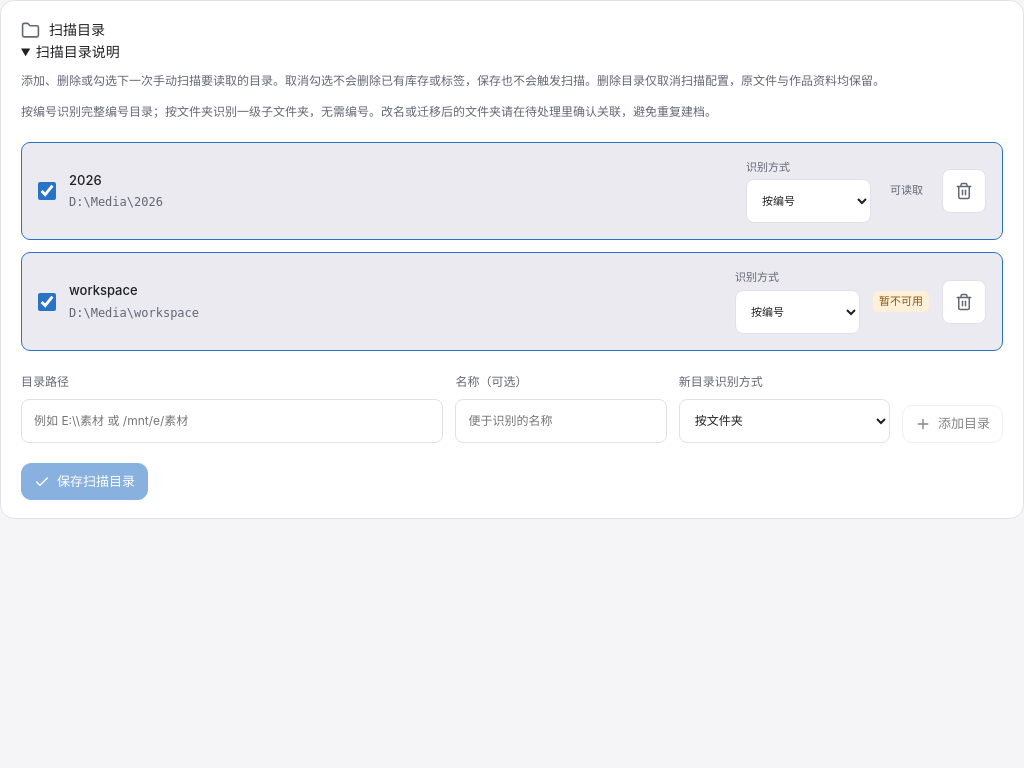
it: persisted scan directory selection › allows disabling every directory and persists the choice
This screenshot has width=1024, height=768.
Step 1. Click the checkbox named "扫描 workspace" → (47, 302), box [38,293,56,311]
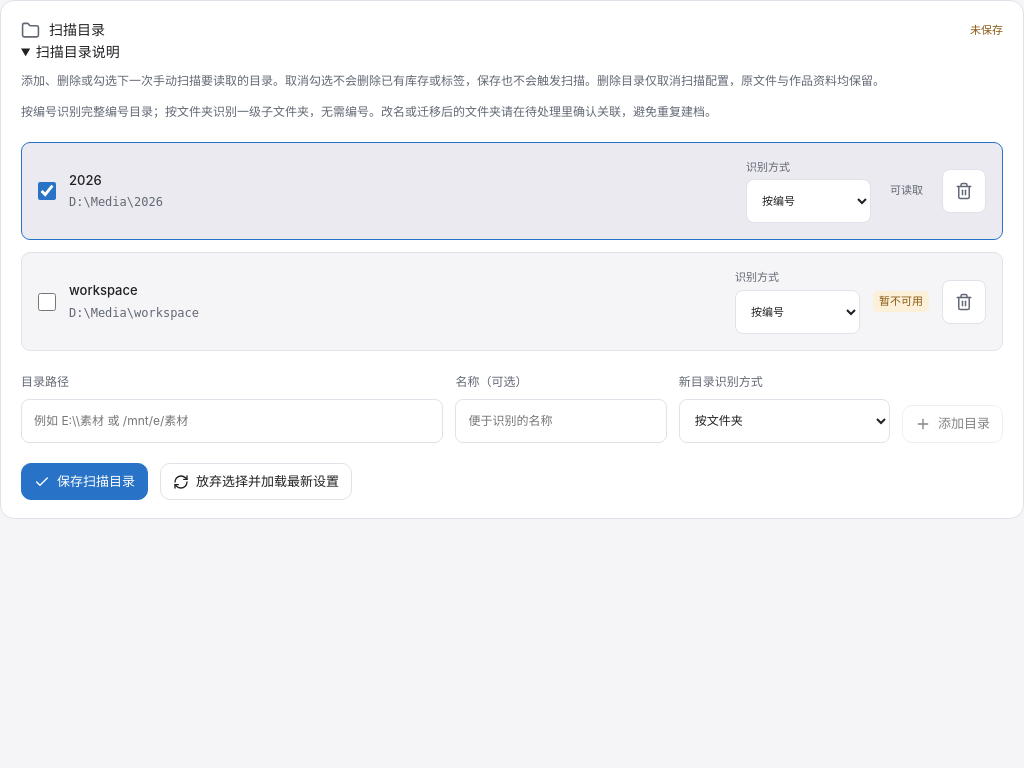
Step 2. Click the checkbox named "扫描 2026" → (47, 191), box [38,182,56,200]
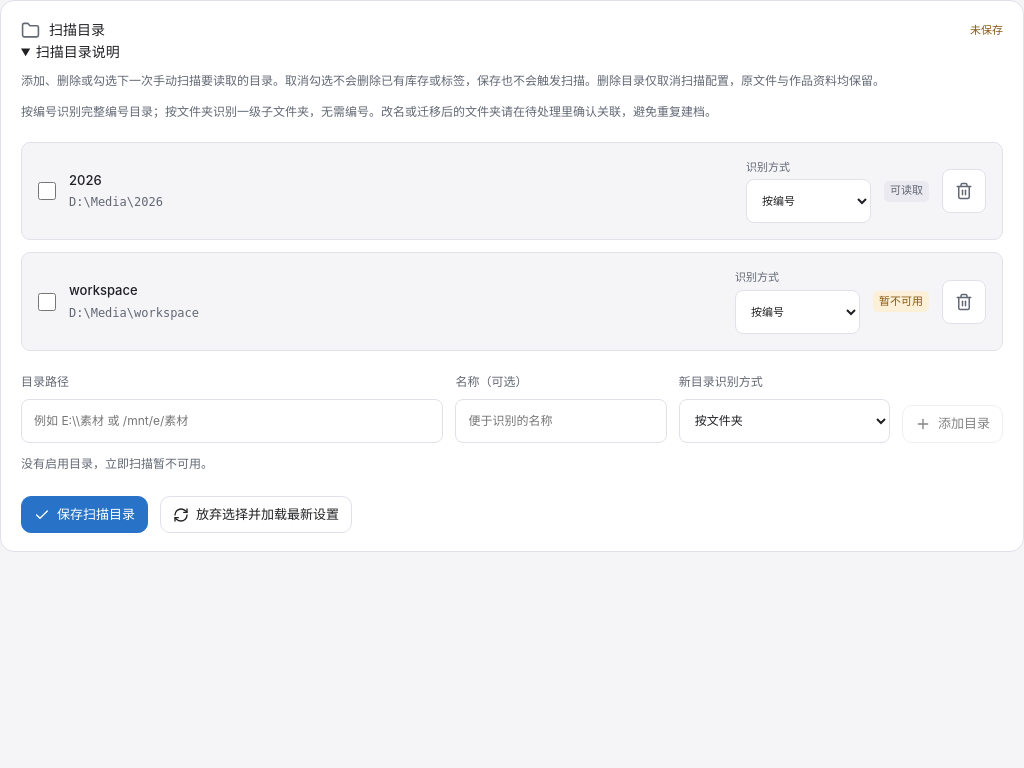
Now the button "保存扫描目录" is enabled
Now the text "没有启用目录，立即扫描暂不可用。" is shown, box [21,456,213,471]
Step 3. Click the button "保存扫描目录" → (84, 515), box [21,496,148,533]
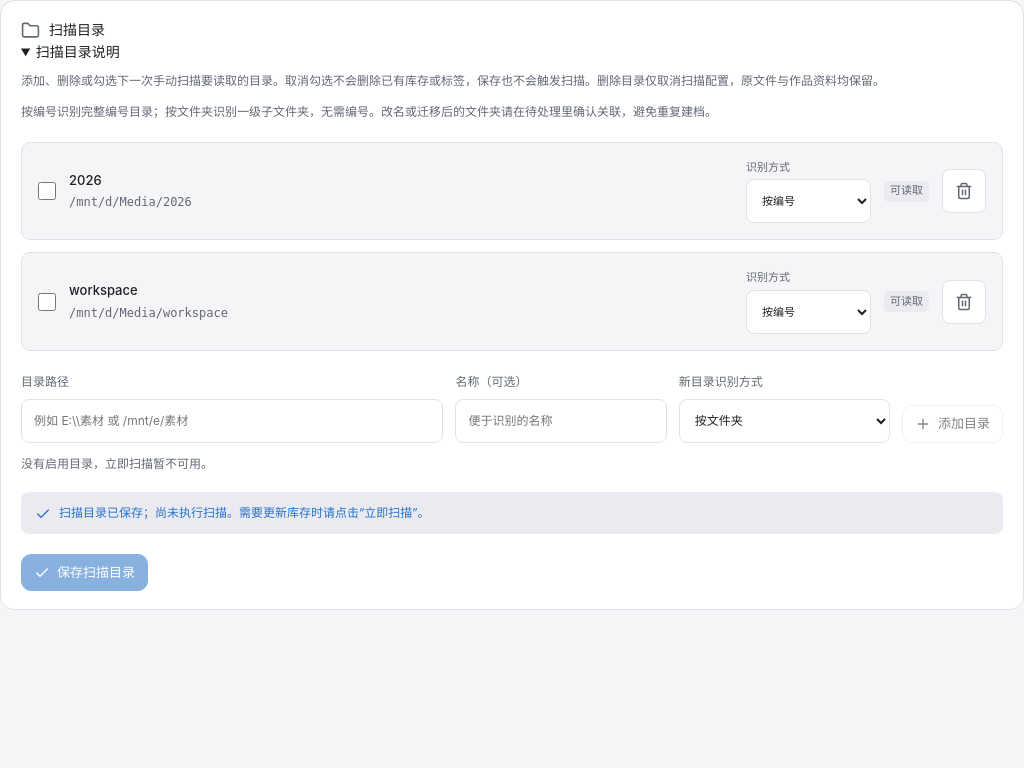
Now the checkbox named "扫描 2026" is not checked, box [38,182,56,200]
Now the checkbox named "扫描 workspace" is not checked, box [38,293,56,311]
Now the text "扫描目录已保存；尚未执行扫描。需要更新库存时请点击“立即扫描”。" is shown, box [21,492,1003,534]
